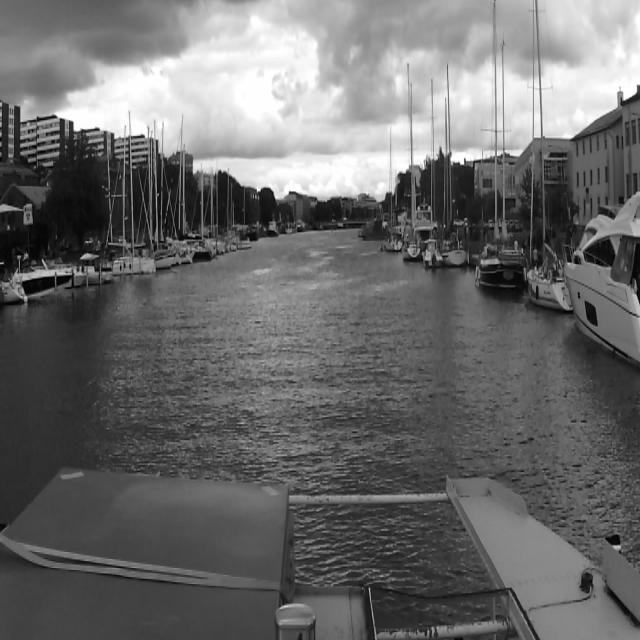ship: (528, 5, 572, 311), (566, 192, 638, 364), (479, 9, 521, 298), (108, 107, 158, 272), (137, 120, 177, 266), (443, 67, 467, 265), (405, 58, 420, 258), (381, 124, 403, 253), (212, 177, 252, 247), (14, 260, 74, 294), (197, 164, 216, 258), (236, 162, 252, 252), (425, 239, 439, 271), (361, 224, 385, 240), (268, 222, 280, 238), (248, 224, 258, 241), (296, 220, 306, 233)
